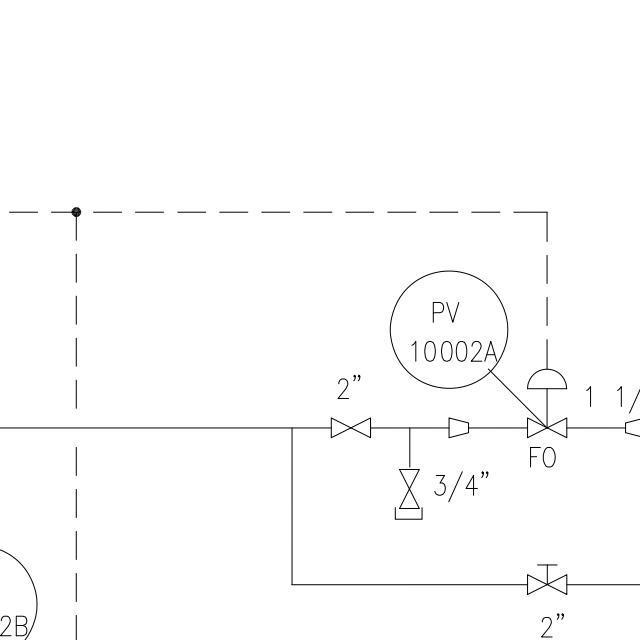EC: (390, 450, 430, 524)
FC: (522, 365, 571, 445)
GV: (325, 416, 377, 440), (397, 463, 422, 512)
HV: (525, 557, 571, 599)
SP: (442, 415, 474, 442)
